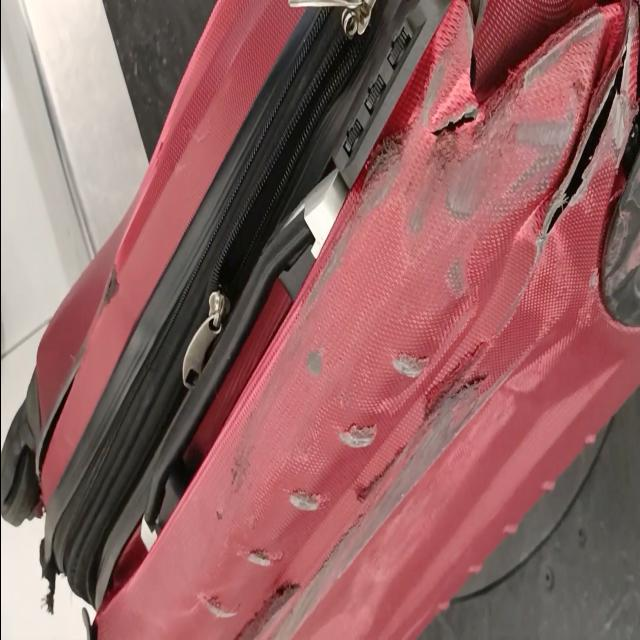Damage-bag: (236, 344, 490, 640), (359, 0, 638, 247), (38, 336, 87, 481), (39, 540, 59, 613), (98, 267, 118, 313), (339, 424, 375, 447), (393, 353, 428, 376), (230, 453, 249, 491), (289, 491, 321, 511), (246, 549, 281, 567), (202, 598, 231, 618), (31, 496, 45, 518), (215, 504, 222, 520)
